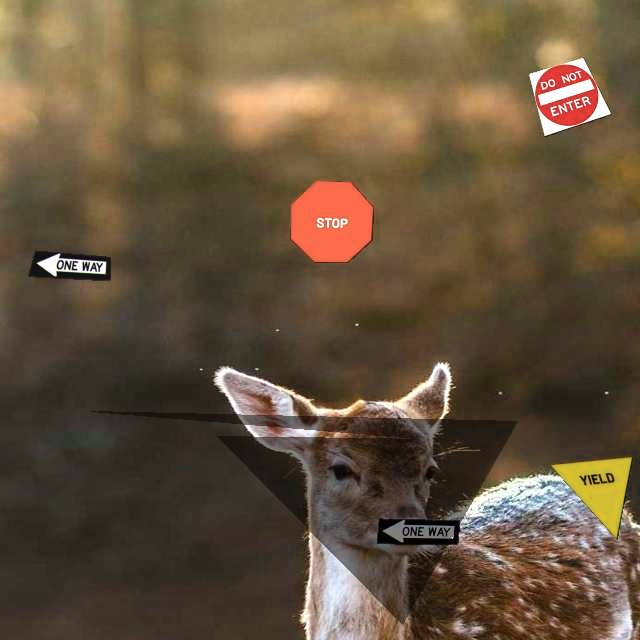DO_NOT_ENTER: (528, 57, 612, 137)
ONE_WAY_ left: (27, 250, 111, 281), (376, 518, 460, 545)
STOP: (290, 180, 374, 263)
YIELD: (549, 456, 633, 540)
